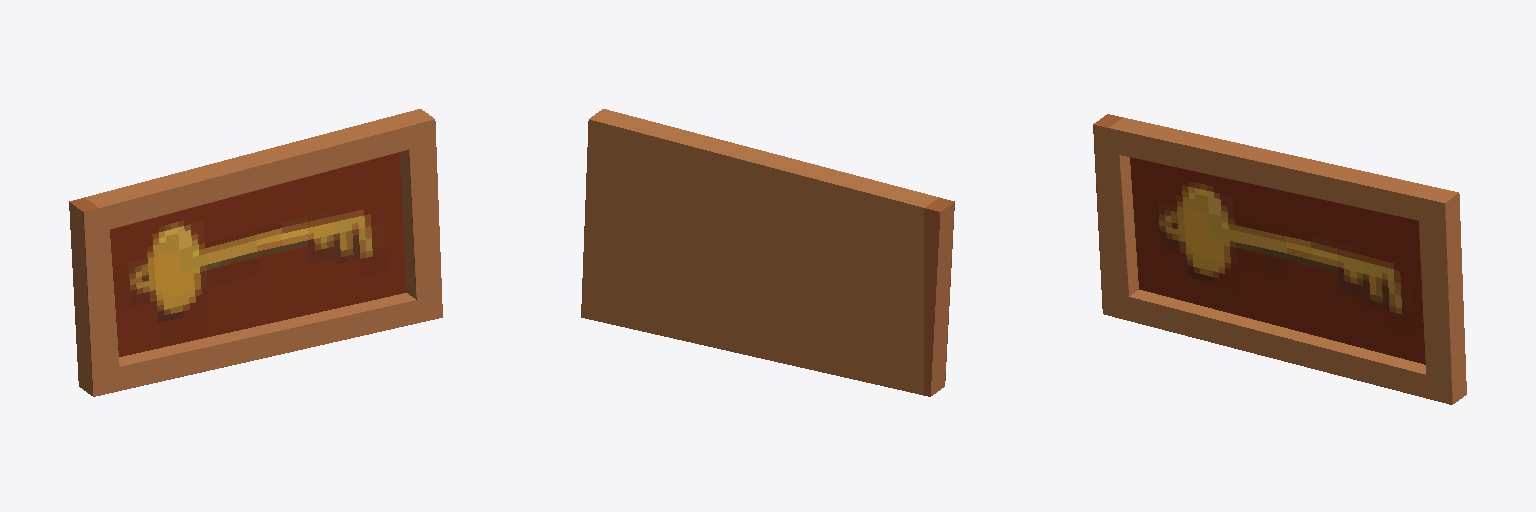
The picture shows the model from 3 angles: view 1: azimuth 30°, elevation 25°; view 2: azimuth 150°, elevation 25°; view 3: azimuth 330°, elevation 25°; orthographic projection.
Parts seen in each view (by area): view 1: Mesh_0001; view 2: Mesh_0001; view 3: Mesh_0001.
Part boxes in pixels (bbox=[...]): Mesh_0001: bbox=[69, 109, 442, 396]; Mesh_0001: bbox=[581, 109, 954, 396]; Mesh_0001: bbox=[1093, 114, 1466, 404].
Bounding box in the file's own units: 1.45 × 0.7703 × 0.1018.
Materials: 1 (1 with a texture image).